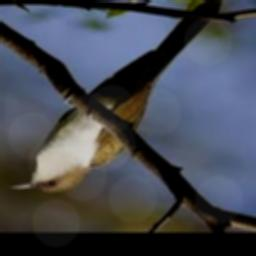Cuckoo: (9, 0, 223, 192)
